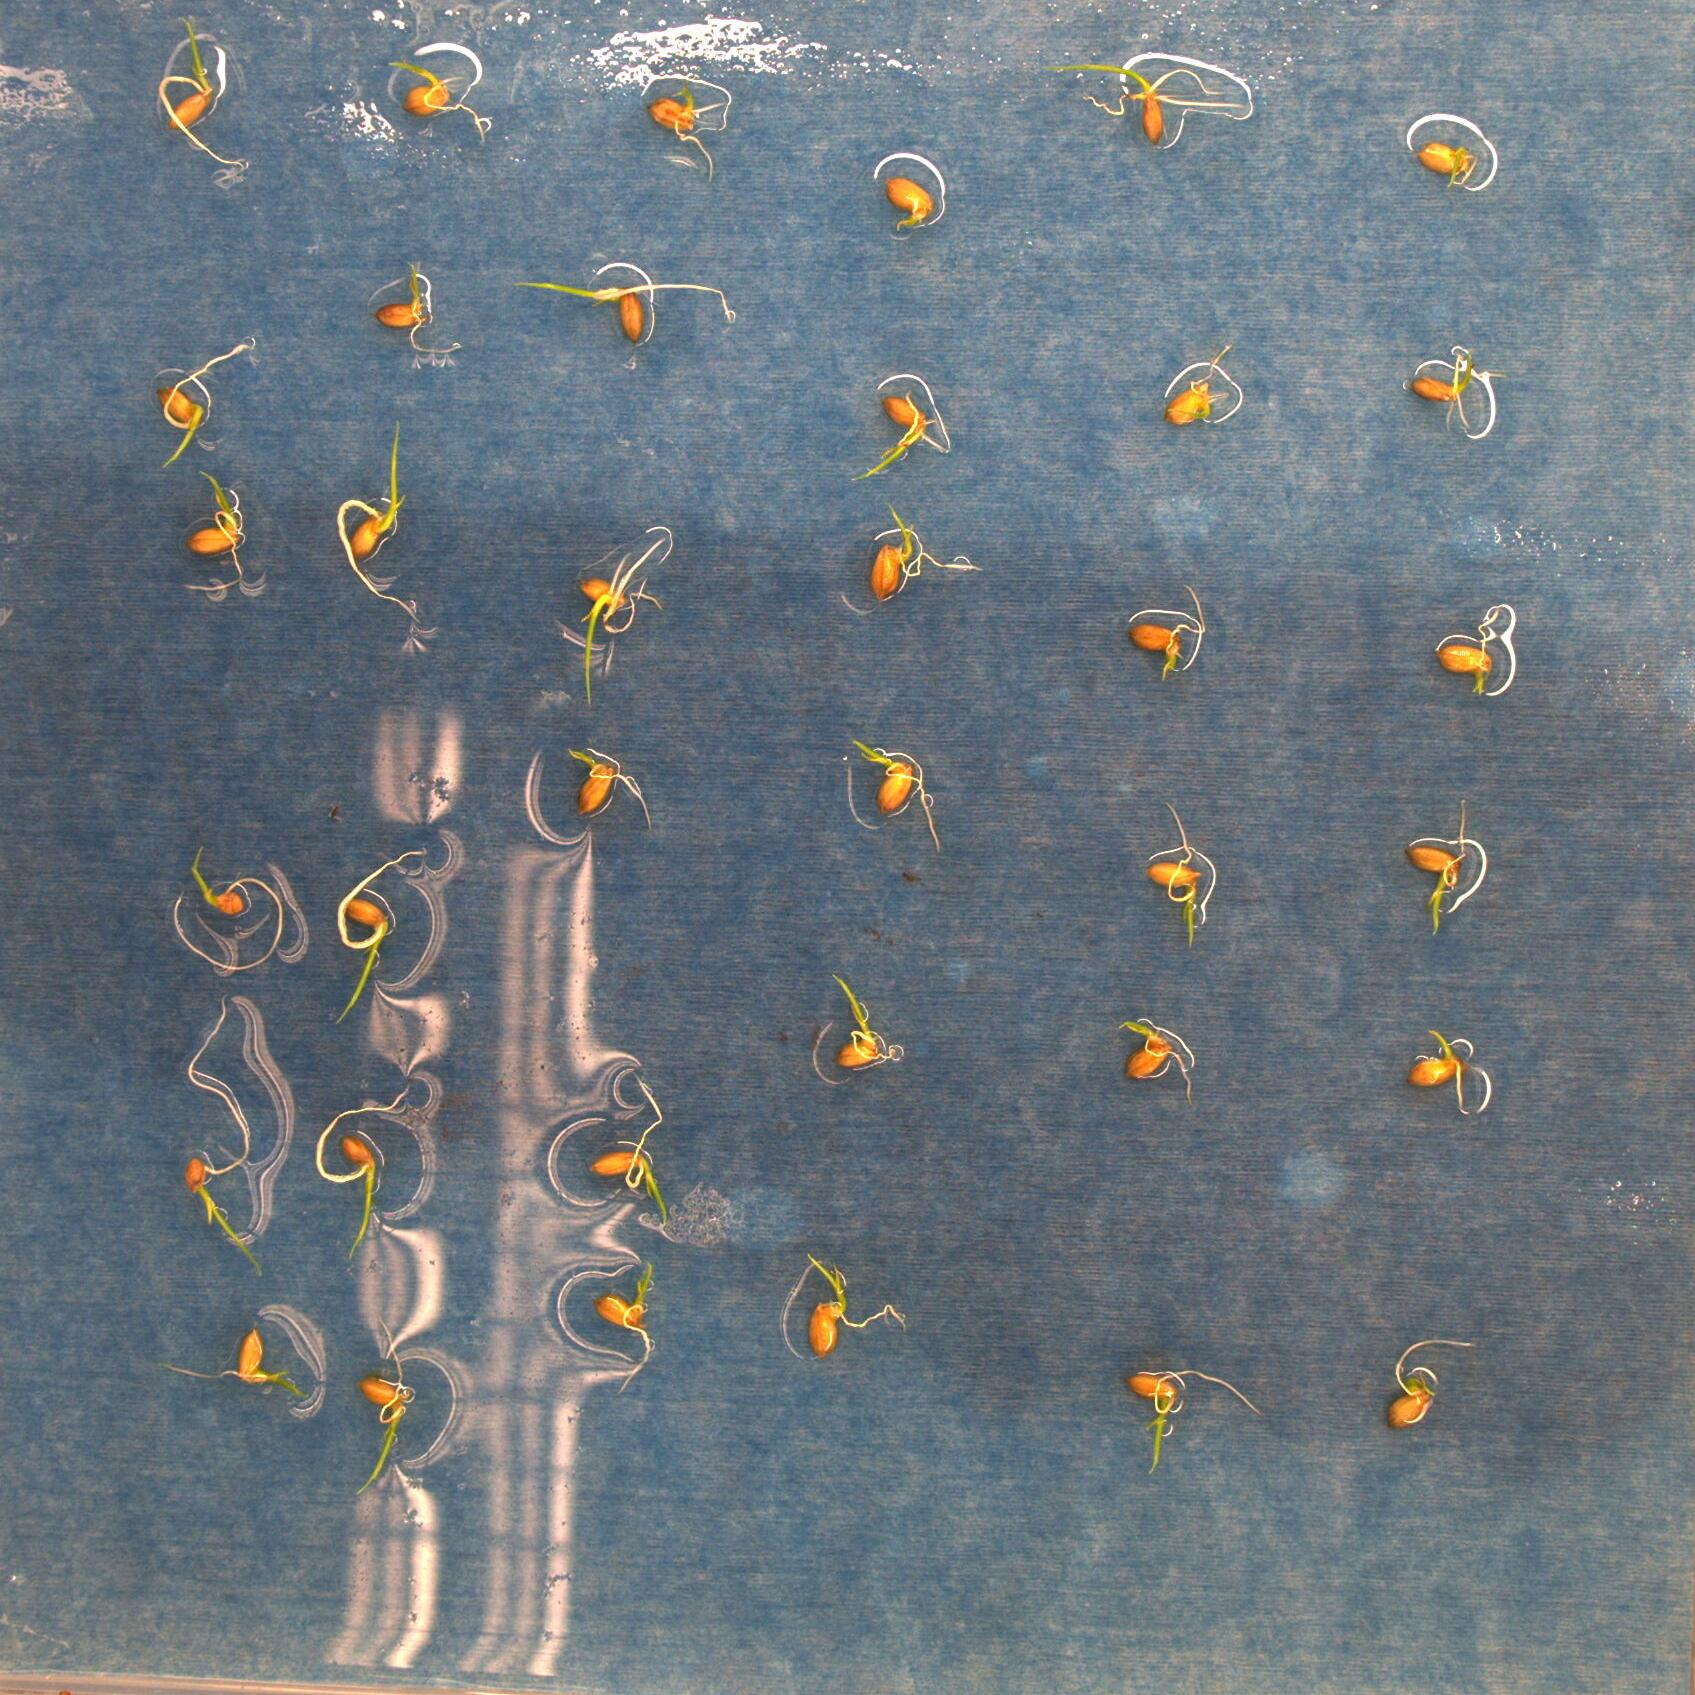not sprout: (885, 175, 938, 230)
sprout: (183, 993, 262, 1277), (337, 421, 424, 624), (314, 1085, 411, 1260), (1043, 65, 1245, 147), (334, 847, 427, 1024), (1122, 1367, 1263, 1475), (577, 537, 664, 705), (172, 844, 284, 972), (514, 281, 733, 345), (157, 19, 248, 168), (587, 1071, 667, 1226), (154, 343, 251, 469), (161, 1324, 312, 1400), (868, 501, 981, 601), (807, 1251, 906, 1360), (852, 739, 941, 854), (354, 1315, 408, 1496), (851, 388, 948, 483), (1146, 799, 1205, 948), (646, 78, 726, 185), (1405, 799, 1467, 938), (591, 1257, 653, 1395), (1385, 1340, 1478, 1431), (373, 259, 461, 355), (390, 61, 492, 140), (1127, 585, 1206, 683), (183, 470, 244, 591), (568, 747, 653, 830), (832, 975, 905, 1071), (1118, 1018, 1194, 1108), (1434, 605, 1503, 697), (1406, 1028, 1470, 1118), (1164, 345, 1231, 427), (1409, 348, 1475, 432), (1412, 140, 1479, 188)
